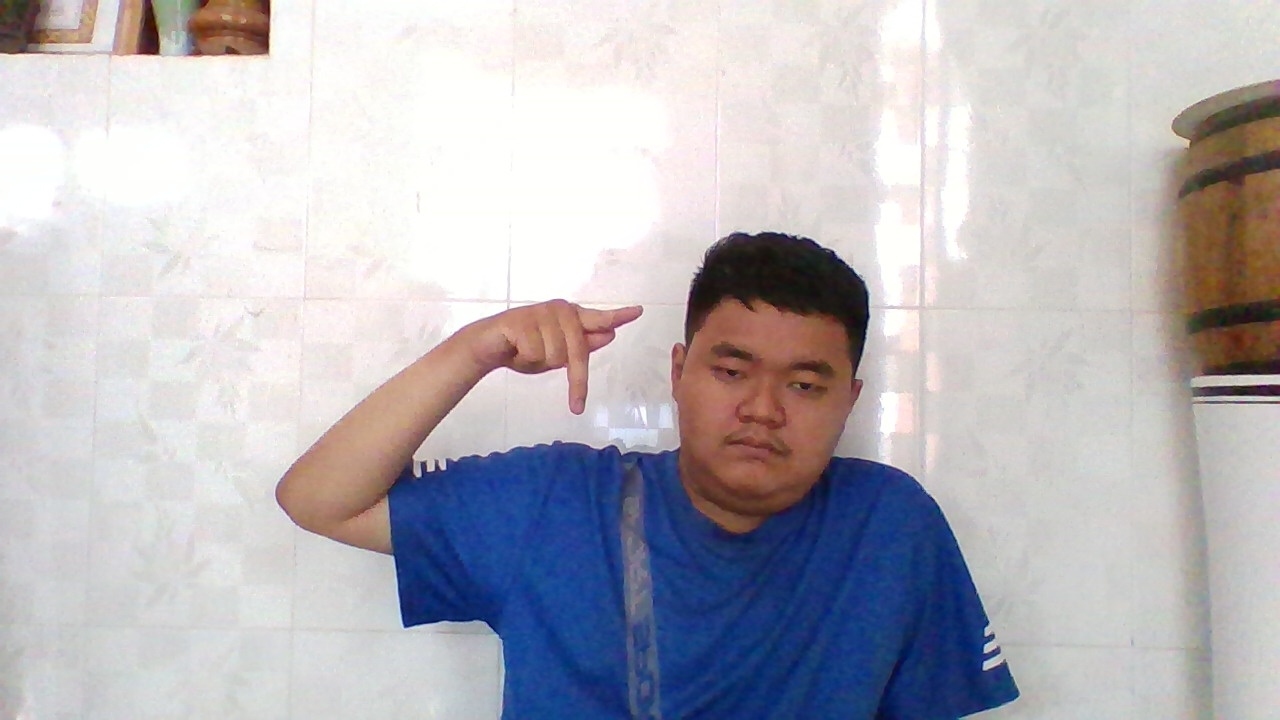P: (462, 289, 653, 427)
